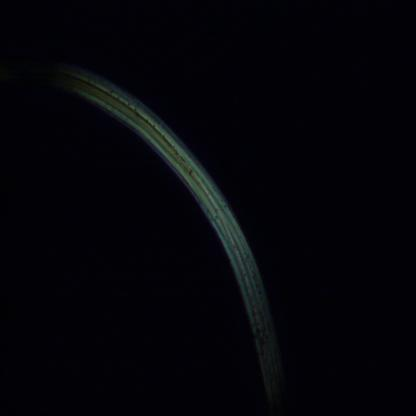Anthropogenic: (52, 61, 290, 415)
